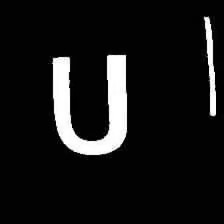LTR_U: (43, 41, 134, 162)
